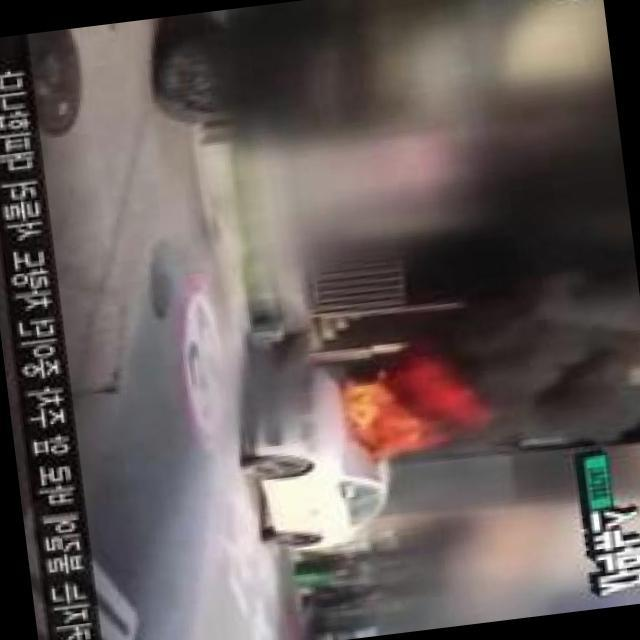Fire: (340, 358, 467, 464)
